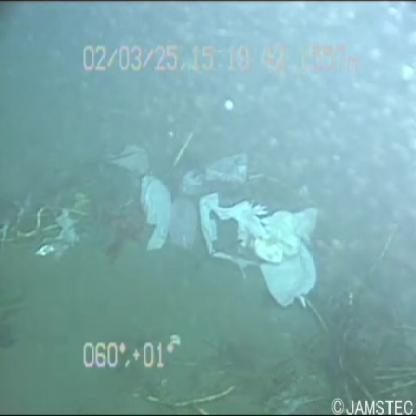Rác: (190, 179, 326, 314), (131, 169, 184, 278)
